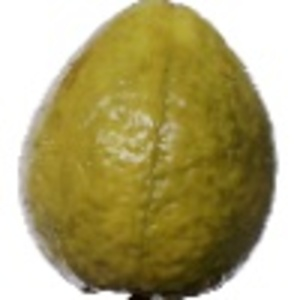goiaba: (11, 3, 283, 295)
